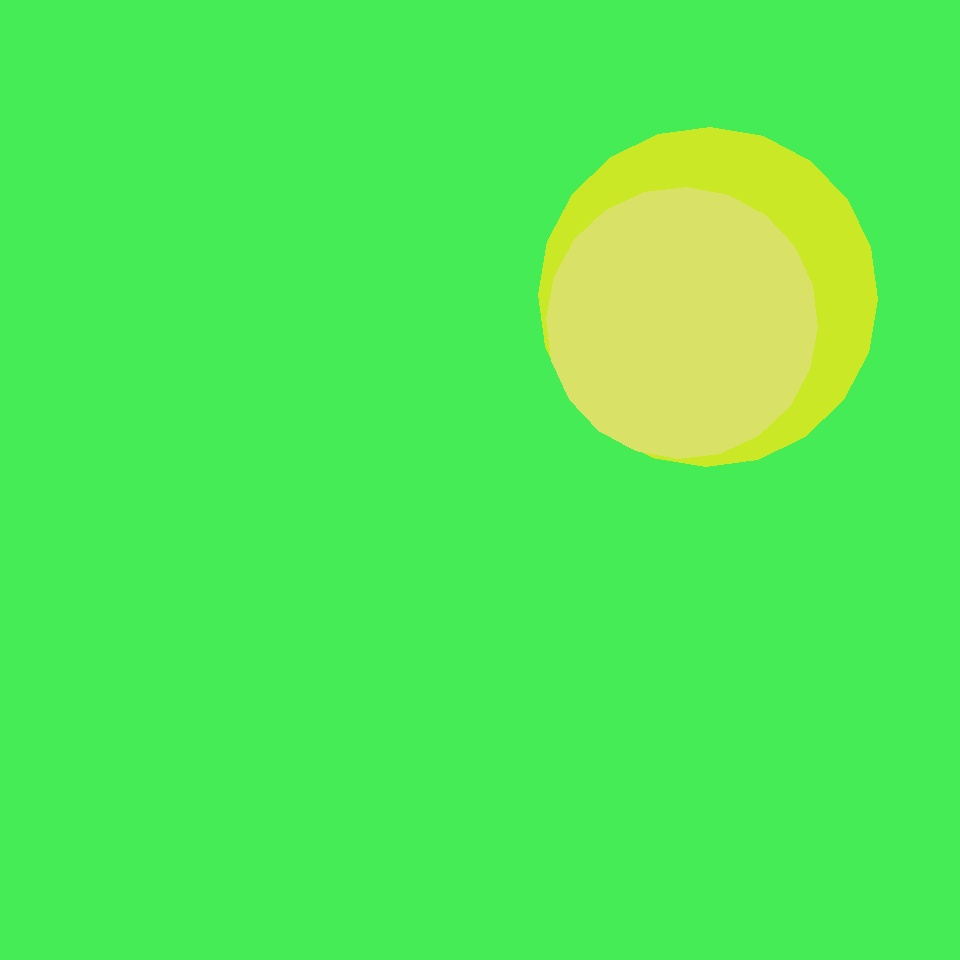triangle: (539, 128, 878, 466), (546, 188, 818, 459)
